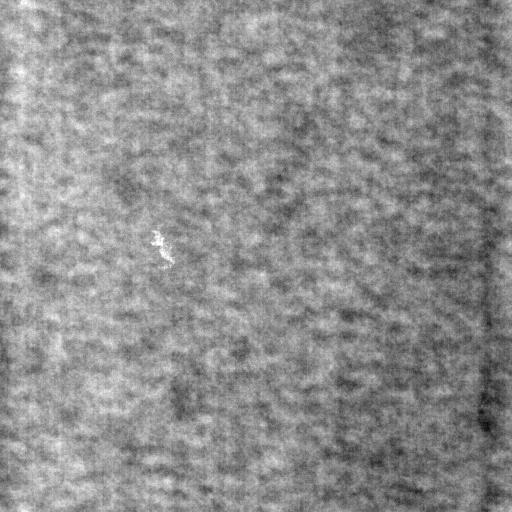DefectTypeA: (148, 227, 176, 270)
